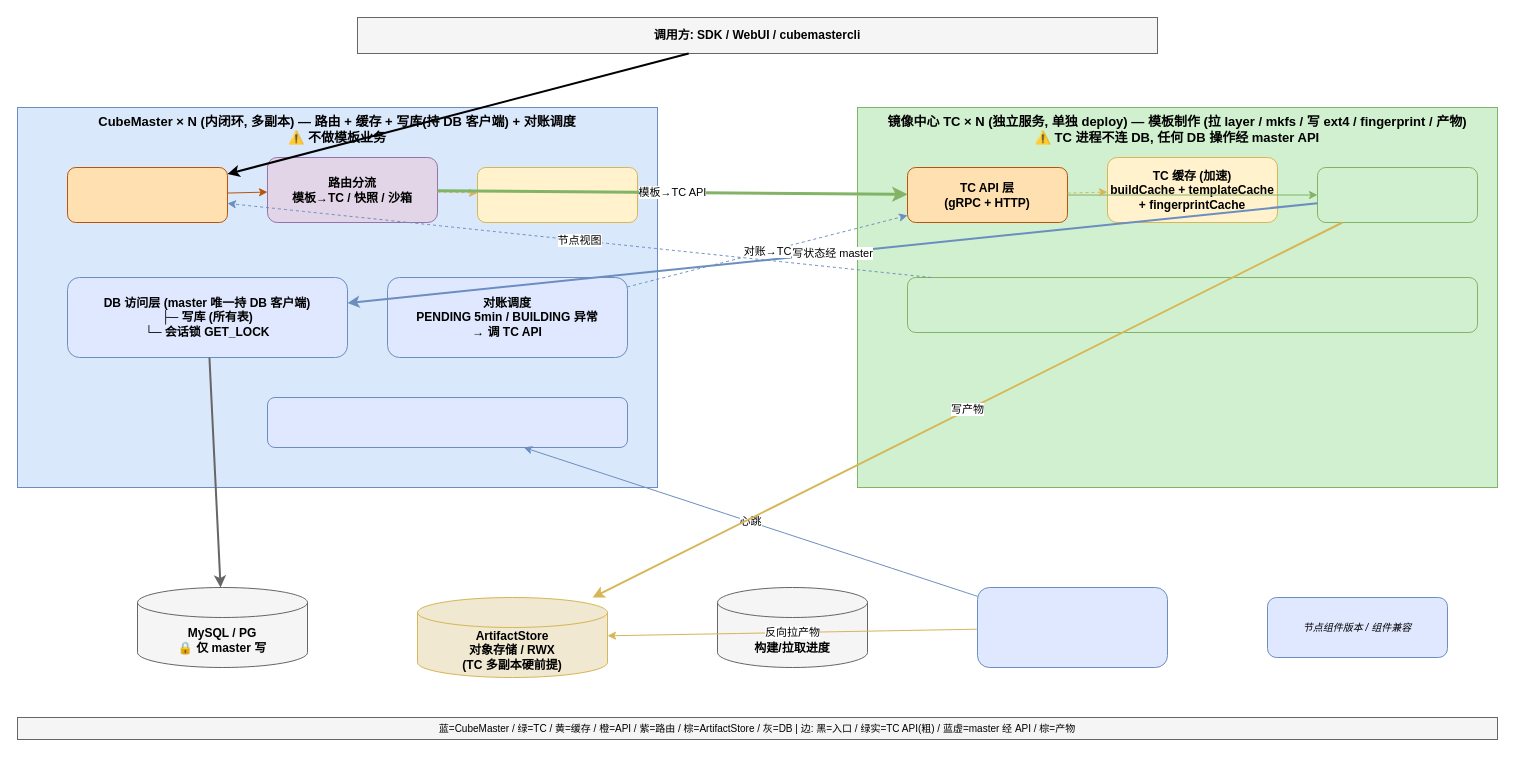
Image size: 1515x757. Some labels were removed from this diagram. Each missing label, with the box of its shape:
API 层 (gRPC + HTTP): (66, 166, 228, 222)
Cubelet × N 心跳只打 master 反向拉产物: (976, 586, 1168, 668)
接收 Cubelet 心跳 (唯一写入 imageCache): (266, 396, 628, 448)
本地缓存 (兜底) imageCache + nodeCache + templateCache: (476, 166, 638, 222)
模板制作业务 ├─ 拉 layer / mkfs ext4 / 写产物 └─ 写状态 → master API: (1316, 166, 1478, 222)
节点视图 (经 master API: GET /internal/nodes) + 进程内锁 (单副本): (906, 276, 1478, 332)
